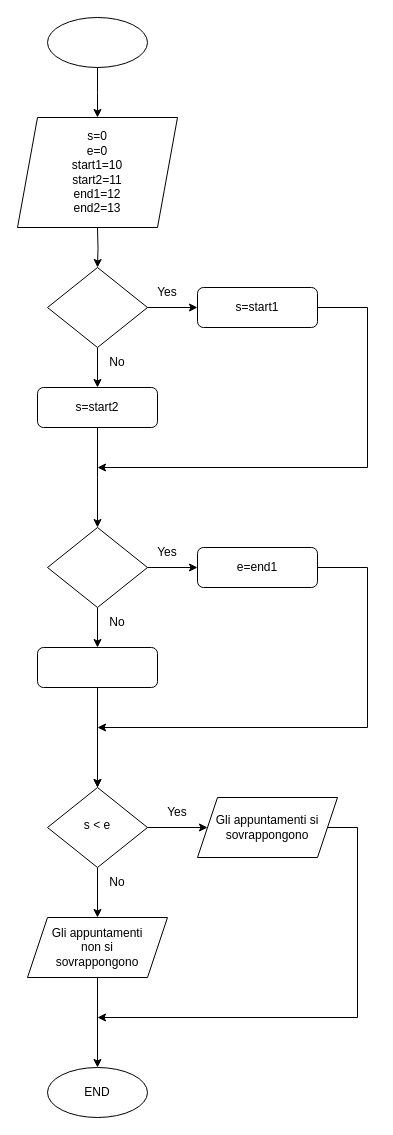
This 393x1135 diagram has some shape labels left out. Here are the shapes that lost their labels. From the top down, the box of each, then its label:
(46, 16, 148, 68): START
(46, 266, 148, 348): start1 > start2
(46, 526, 148, 608): end1 < end2
(36, 646, 158, 688): e=end2
